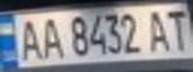2: (118, 9, 145, 55)
3: (103, 10, 124, 55)
4: (87, 11, 109, 56)
8: (63, 12, 90, 56)
A: (12, 16, 45, 62), (142, 7, 172, 53), (36, 15, 66, 60)
T: (160, 4, 193, 52)
